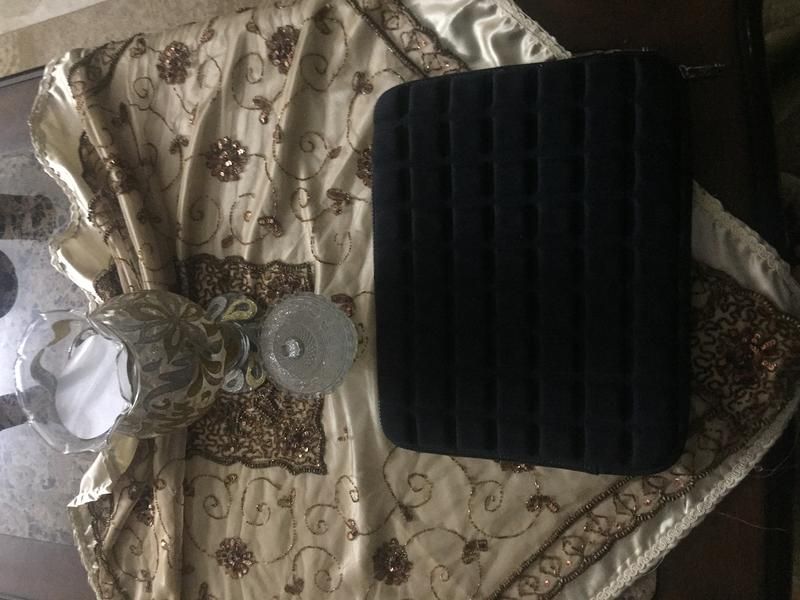cover: (367, 40, 698, 482)
